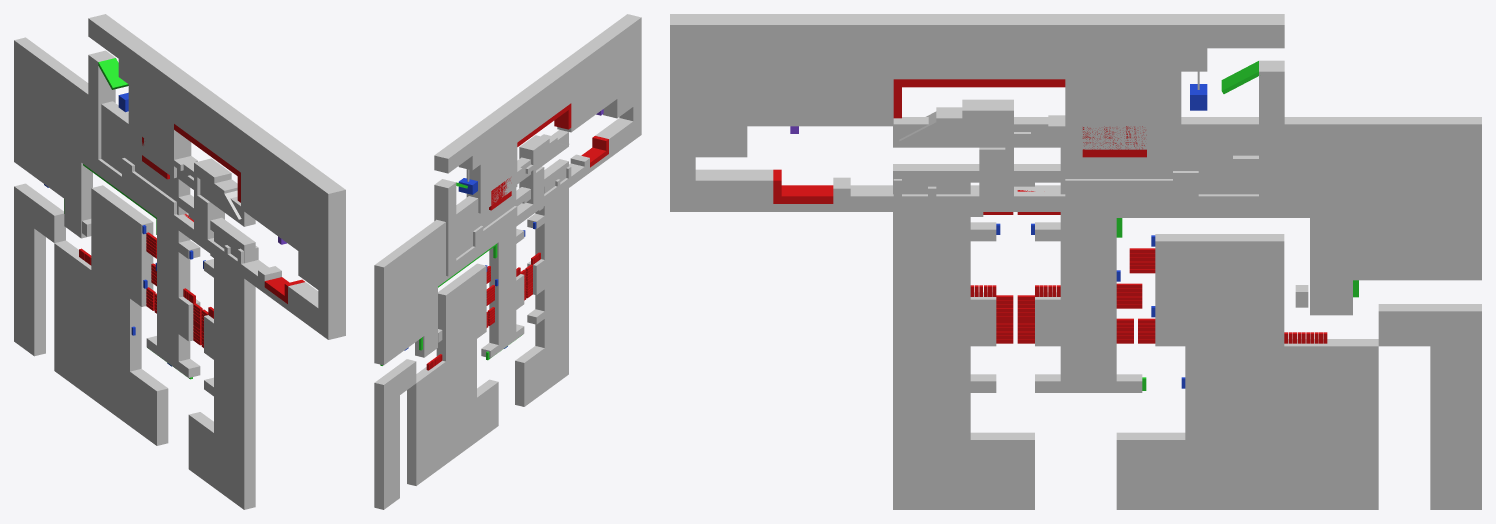
3 renders of one model, left to right at view 1: azimuth 30°, elevation 25°; view 2: azimuth 150°, elevation 25°; view 3: azimuth 270°, elevation 25°, orthographic. The views are drawn at different scales.
Visible parts, largest first — view 1: Cube.001, Cube.019, Cube.005, Cube.072, Cube.070, Cube.069, Cube.013, Cube.003, Cube.004, Cube.071, Cube.020, Cube.061 (+18 smaller); view 2: Cube.019, Cube.005, Cube.001, Cube.013, Cube.070, Cube.072, Cube.003, Cube.004, Cube.071, Cube.069, Cube.020, Cube.061 (+14 smaller); view 3: Cube.019, Cube.005, Cube.001, Cube.070, Cube.013, Cube.072, Cube.004, Cube.071, Cube.069, Cube.003, Cube.020, Cube.061 (+17 smaller).
Part boxes in pixels (bbox=[...]): Cube.001: bbox=[214, 220, 255, 509]; Cube.019: bbox=[14, 37, 92, 210]; Cube.005: bbox=[91, 185, 141, 425]; Cube.072: bbox=[128, 43, 191, 178]; Cube.070: bbox=[241, 126, 314, 250]; Cube.069: bbox=[298, 167, 345, 297]; Cube.013: bbox=[54, 240, 91, 397]; Cube.003: bbox=[14, 183, 45, 356]; Cube.004: bbox=[157, 156, 190, 370]; Cube.071: bbox=[174, 76, 258, 172]; Cube.020: bbox=[81, 88, 156, 217]; Cube.061: bbox=[98, 159, 268, 288]; Cube.019: bbox=[374, 225, 437, 365]; Cube.005: bbox=[436, 270, 476, 463]; Cube.001: bbox=[535, 159, 568, 391]; Cube.013: bbox=[407, 360, 445, 485]; Cube.070: bbox=[557, 32, 617, 132]; Cube.072: bbox=[466, 105, 517, 213]; Cube.003: bbox=[374, 371, 399, 509]; Cube.004: bbox=[489, 188, 516, 351]; Cube.071: bbox=[503, 65, 571, 142]; Cube.069: bbox=[603, 14, 641, 118]; Cube.020: bbox=[429, 196, 498, 286]; Cube.061: bbox=[456, 163, 584, 270]; Cube.019: bbox=[1310, 117, 1481, 280]; Cube.005: bbox=[1185, 234, 1284, 509]; Cube.001: bbox=[893, 164, 970, 509]; Cube.070: bbox=[747, 14, 893, 126]; Cube.013: bbox=[1284, 339, 1378, 509]; Cube.072: bbox=[1065, 14, 1181, 149]; Cube.004: bbox=[1060, 117, 1116, 392]; Cube.071: bbox=[893, 14, 1065, 79]; Cube.069: bbox=[670, 14, 747, 157]; Cube.003: bbox=[1430, 304, 1481, 509]; Cube.020: bbox=[1116, 117, 1309, 217]; Cube.061: bbox=[850, 185, 1258, 211].
Size of the model in its own units: 350 by 6250 by 9446.
